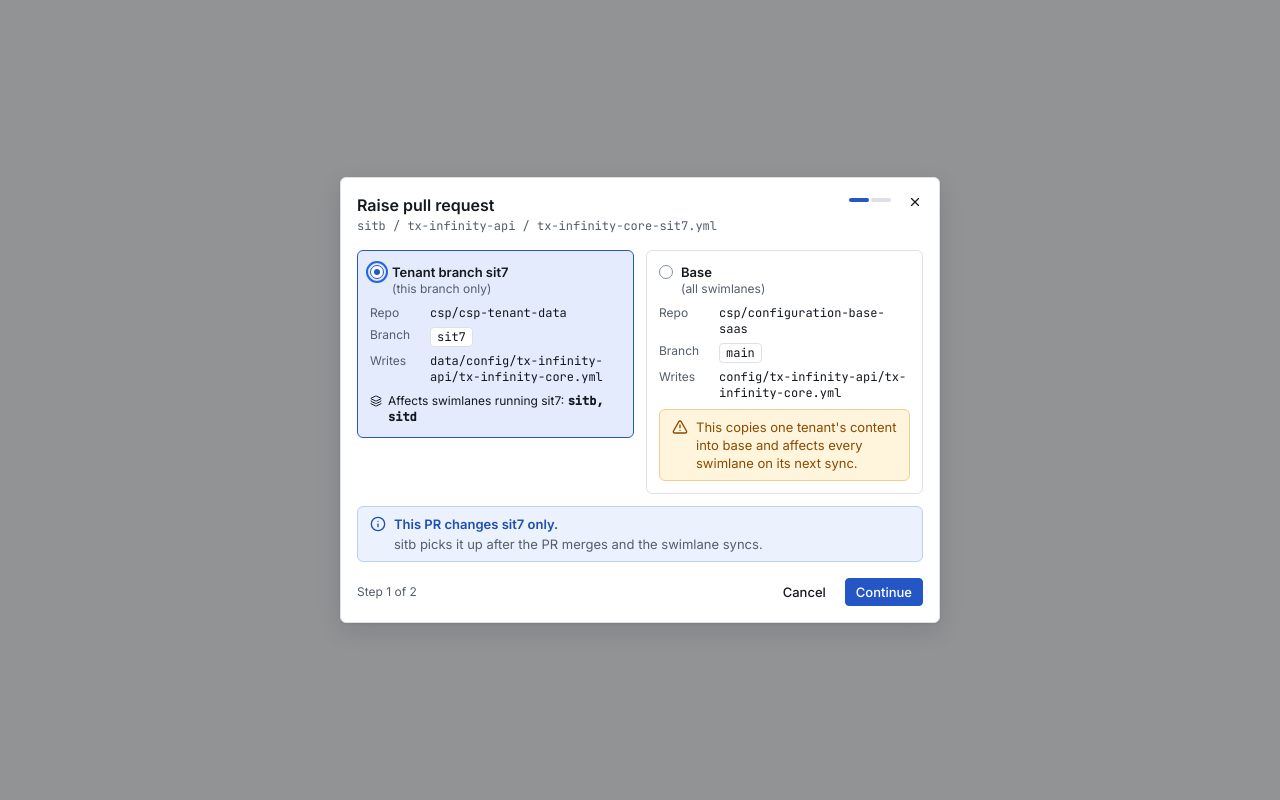
Test case: PrDialog: the open PR that already exists (1f) › shows the same when the server refuses the second PR with duplicate_pr
Click the button "Continue": click(884, 592) [845, 578, 923, 606]
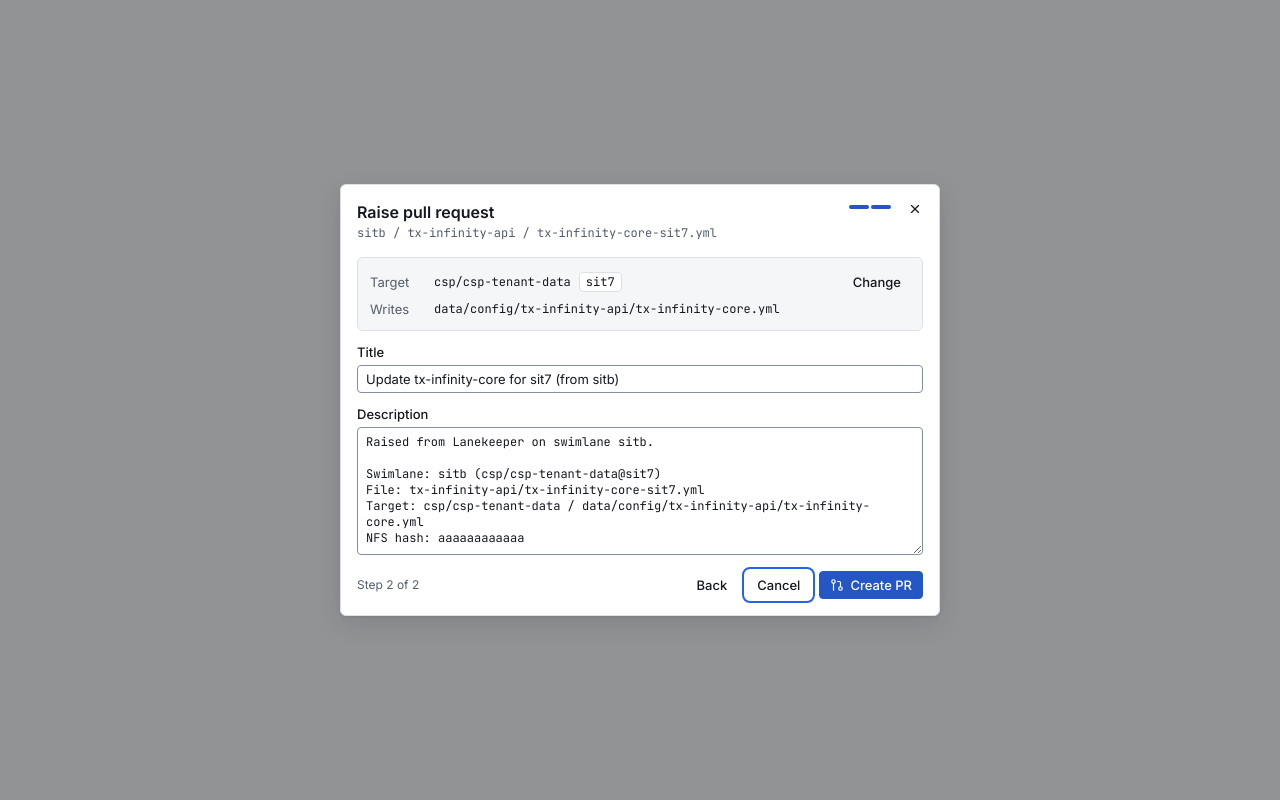
Click the button "Create PR": click(871, 585) [819, 571, 923, 599]
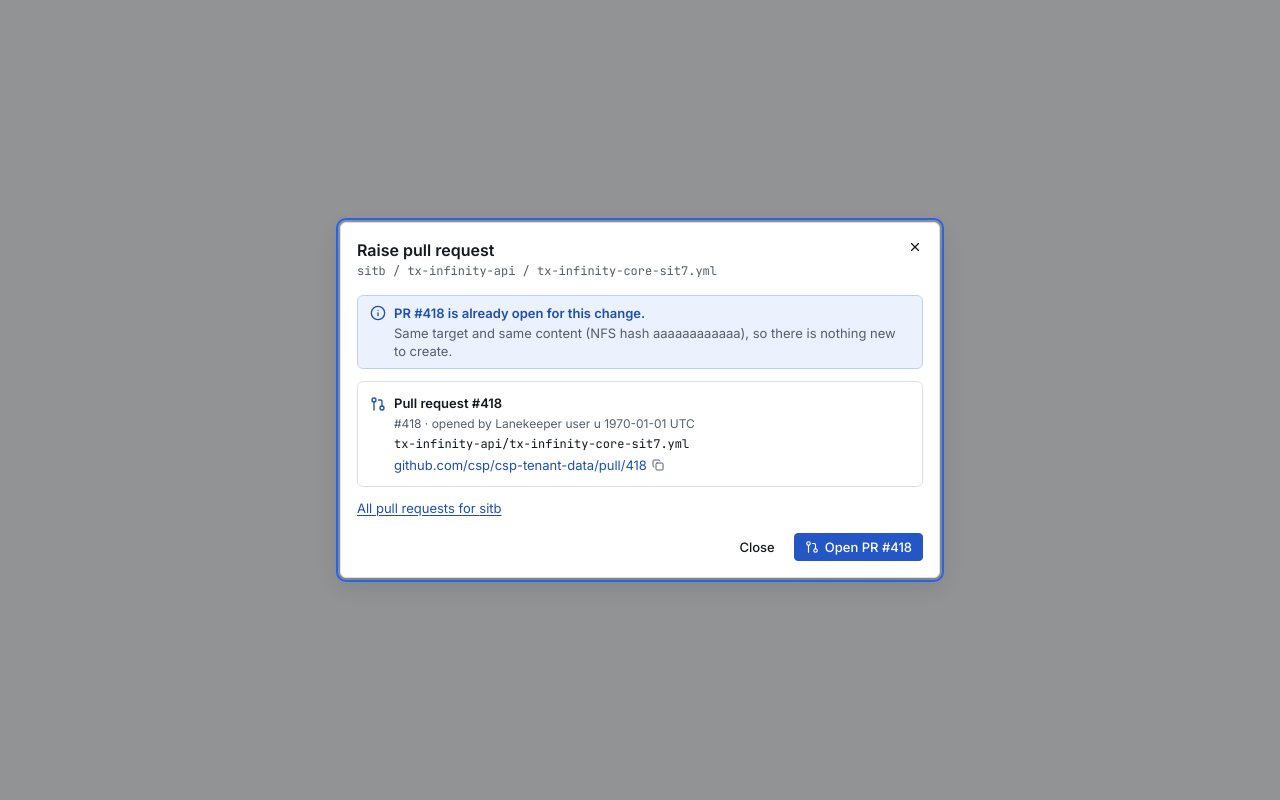
Now the text "PR #418 is already open for this change." is shown, box [394, 305, 645, 321]
Now the link "Open PR #418" is shown, box [794, 533, 923, 561]
